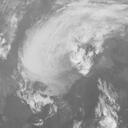cyclone: (18, 26, 89, 96)
